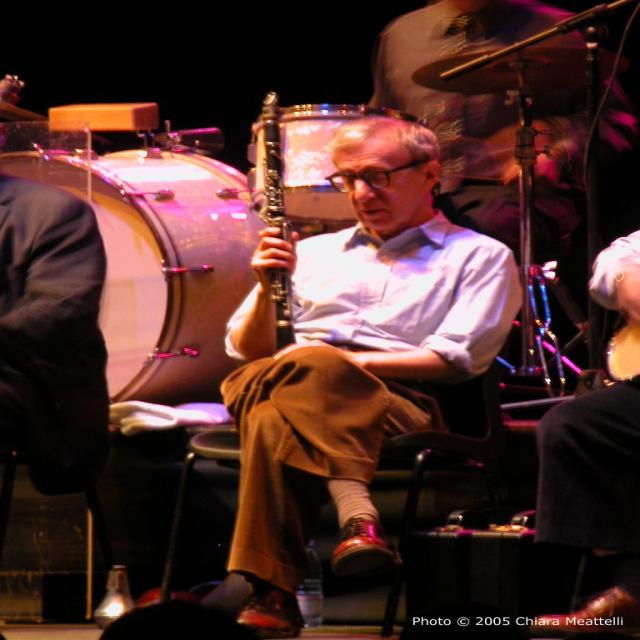clarinet: (262, 86, 299, 360)
